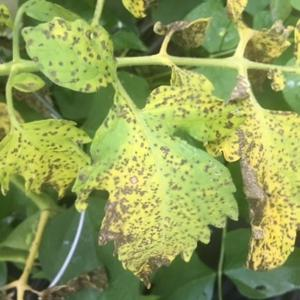Tomato leaf bacterial spot: (74, 105, 243, 293), (188, 72, 297, 284), (1, 115, 99, 213), (18, 14, 128, 98), (139, 66, 243, 144)
